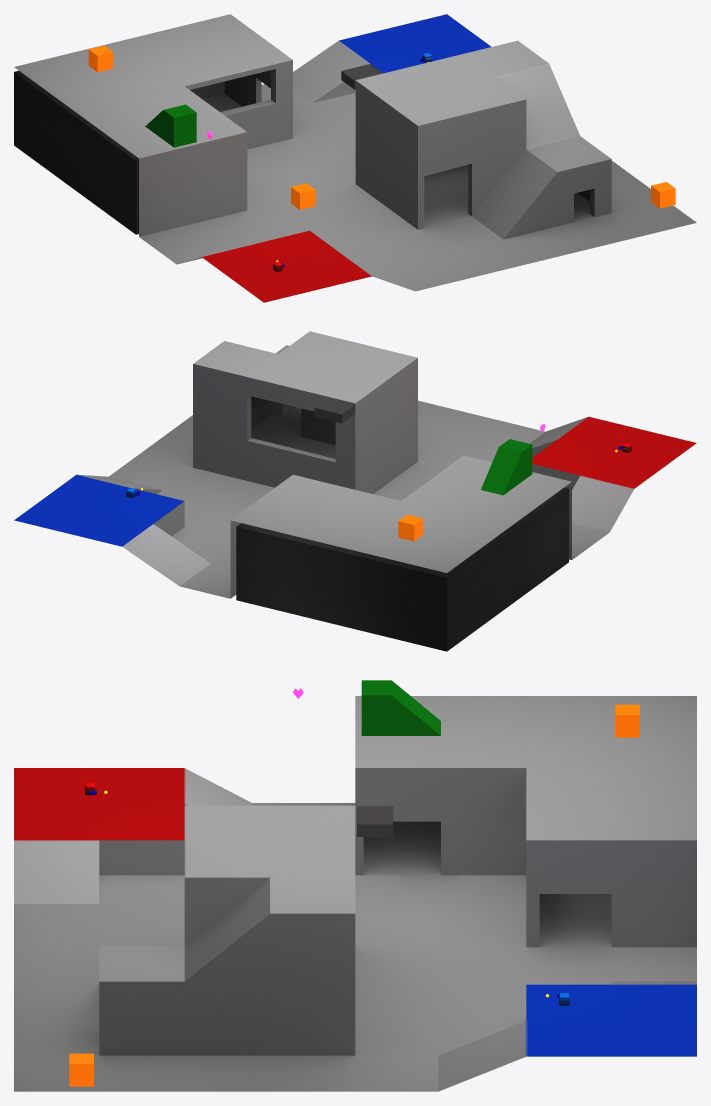
3 renders of one model, top to bottom at view 1: azimuth 30°, elevation 25°; view 2: azimuth 150°, elevation 25°; view 3: azimuth 270°, elevation 25°, orthographic. The views are drawn at different scales.
Visible parts, largest first — view 1: Red House, Blue House, Ground, Blue Base, Red base, Stairs, Int_cube.002, Int_cube, Int_cube.004, Lift; view 2: Red House, Blue House, Ground, Blue Base, Red base, Stairs, Lift, Int_cube.002; view 3: Ground, Red House, Blue House, Red base, Blue Base, Stairs, Lift, Int_cube.004, Int_cube.002.
Boxes of the visible parts, x1=… form: Red House: x1=14, y1=14, x2=292, y2=236; Blue House: x1=355, y1=40, x2=611, y2=239; Ground: x1=139, y1=84, x2=696, y2=291; Blue Base: x1=293, y1=14, x2=491, y2=102; Red base: x1=180, y1=230, x2=414, y2=302; Stairs: x1=145, y1=104, x2=196, y2=147; Int_cube.002: x1=88, y1=45, x2=113, y2=72; Int_cube: x1=291, y1=183, x2=315, y2=209; Int_cube.004: x1=651, y1=182, x2=675, y2=208; Lift: x1=341, y1=64, x2=380, y2=89; Red House: x1=230, y1=455, x2=571, y2=651; Blue House: x1=193, y1=331, x2=417, y2=494; Ground: x1=109, y1=400, x2=609, y2=598; Blue Base: x1=14, y1=474, x2=210, y2=586; Red base: x1=529, y1=416, x2=696, y2=532; Stairs: x1=481, y1=439, x2=532, y2=495; Lift: x1=314, y1=398, x2=355, y2=423; Int_cube.002: x1=398, y1=514, x2=423, y2=541; Ground: x1=14, y1=803, x2=696, y2=1091; Red House: x1=355, y1=696, x2=696, y2=947; Blue House: x1=99, y1=805, x2=355, y2=1055; Red base: x1=14, y1=768, x2=252, y2=903; Blue Base: x1=438, y1=981, x2=696, y2=1091; Stairs: x1=361, y1=680, x2=440, y2=735; Lift: x1=357, y1=806, x2=393, y2=836; Int_cube.004: x1=69, y1=1053, x2=93, y2=1086; Int_cube.002: x1=615, y1=704, x2=639, y2=737.
Size of the model in its own units: 129594 by 129595 by 30949.
